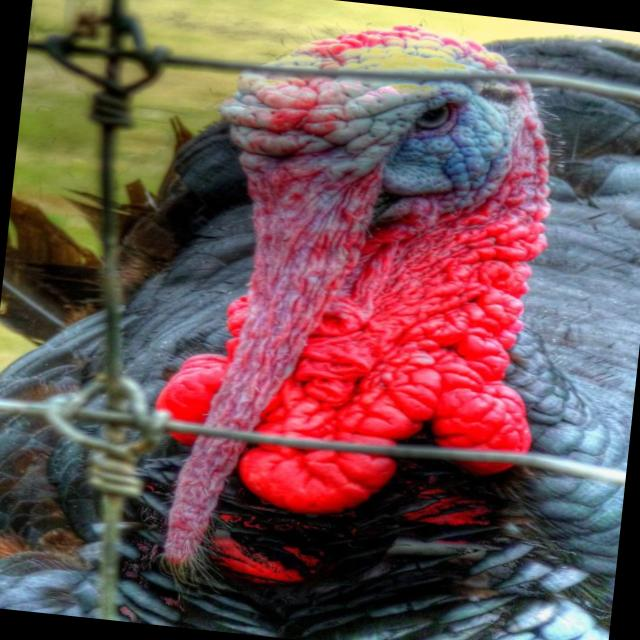turkey: (0, 0, 610, 629)
